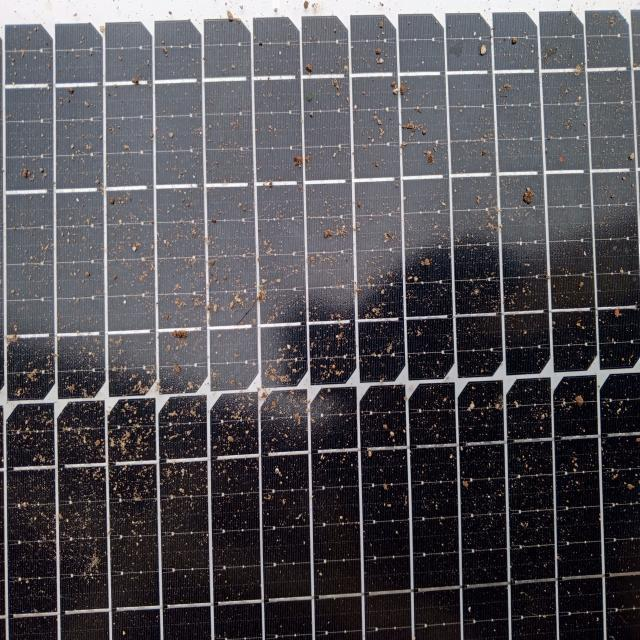Surface Contaminant: (2, 21, 639, 631)
